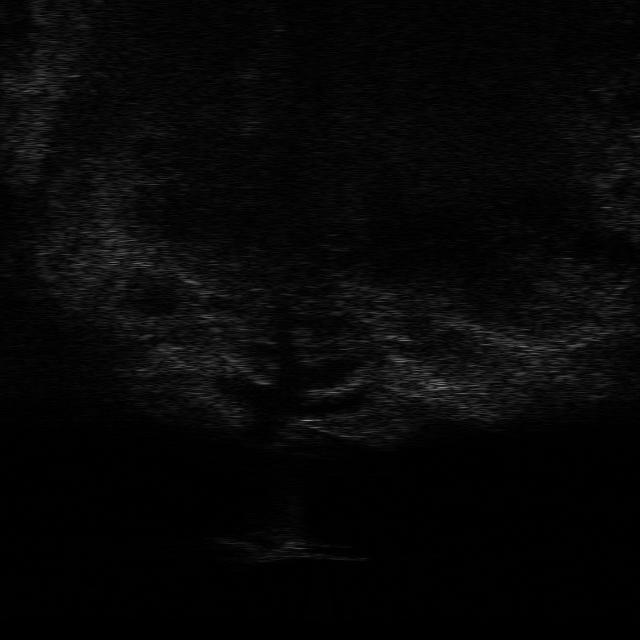plane: (210, 529, 375, 565)
